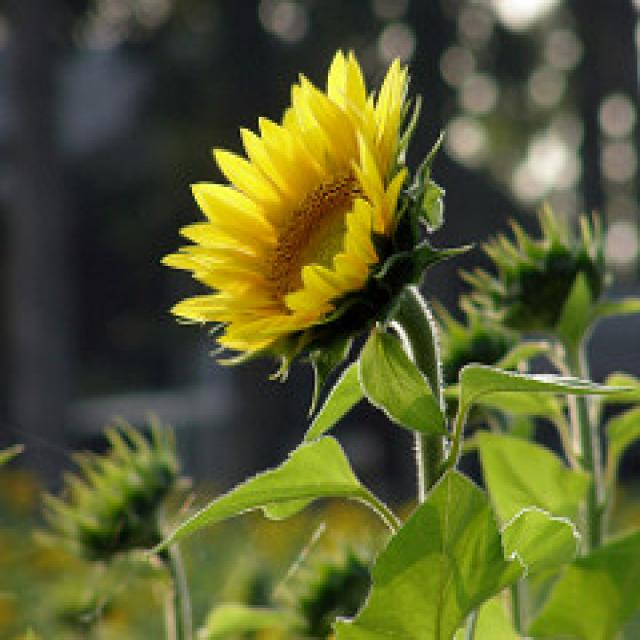sunflower: (154, 39, 462, 405)
